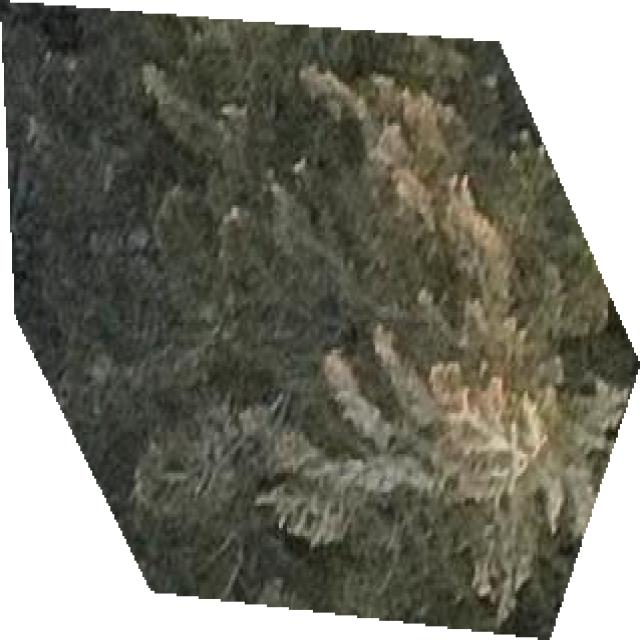spruce: (0, 0, 638, 637)
